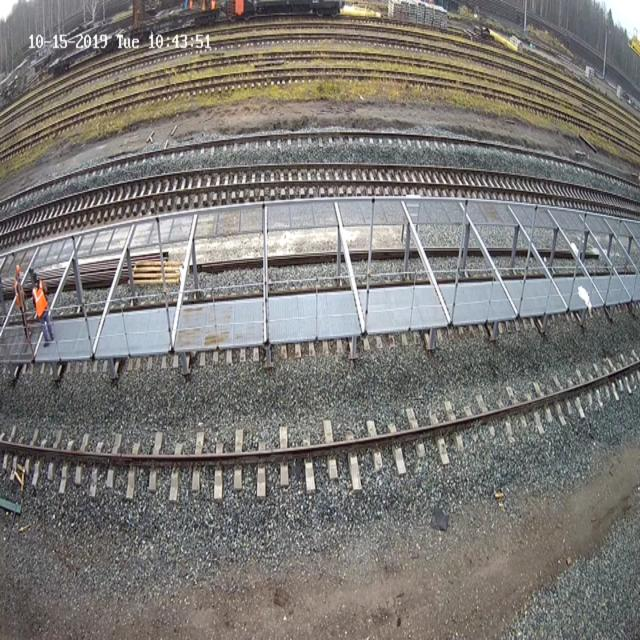Helmet: (16, 264, 21, 274)
Person: (32, 275, 54, 345), (13, 264, 29, 332)
